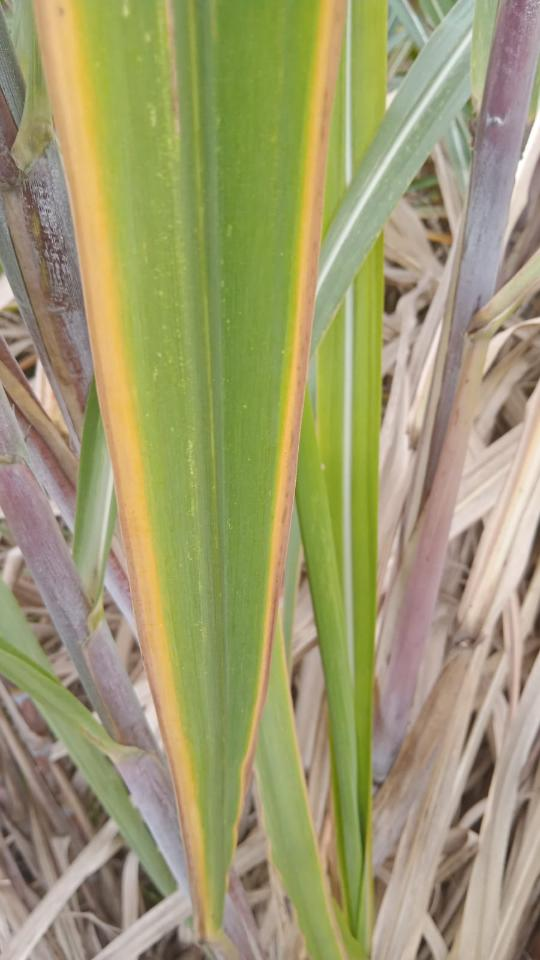Yellow: (35, 0, 214, 942), (238, 0, 336, 775)
